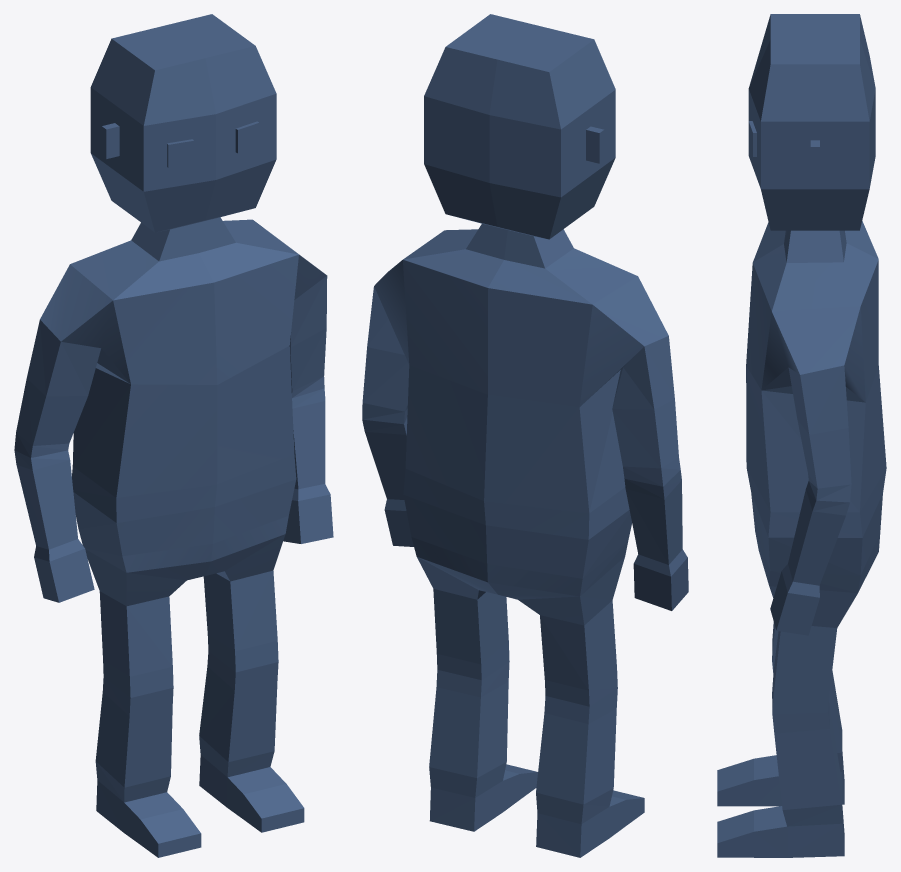
Rendered from low_poly_human.obj.
3 views of the same model, side by side, from view 1: azimuth 30°, elevation 25°; view 2: azimuth 150°, elevation 25°; view 3: azimuth 270°, elevation 25° (orthographic). The views are drawn at different scales.
Visible parts, largest first — view 1: Object_9; view 2: Object_9; view 3: Object_9.
Boxes of the visible parts, x1=… form: Object_9: x1=14, y1=14, x2=333, y2=857; Object_9: x1=362, y1=14, x2=688, y2=857; Object_9: x1=717, y1=14, x2=886, y2=857.
Bounding box in the file's own units: 1.4 × 3.45 × 0.6764.
